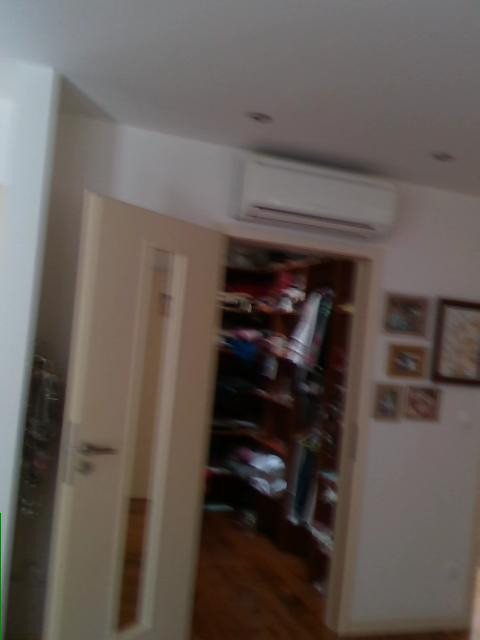open_door: (169, 224, 374, 639)
